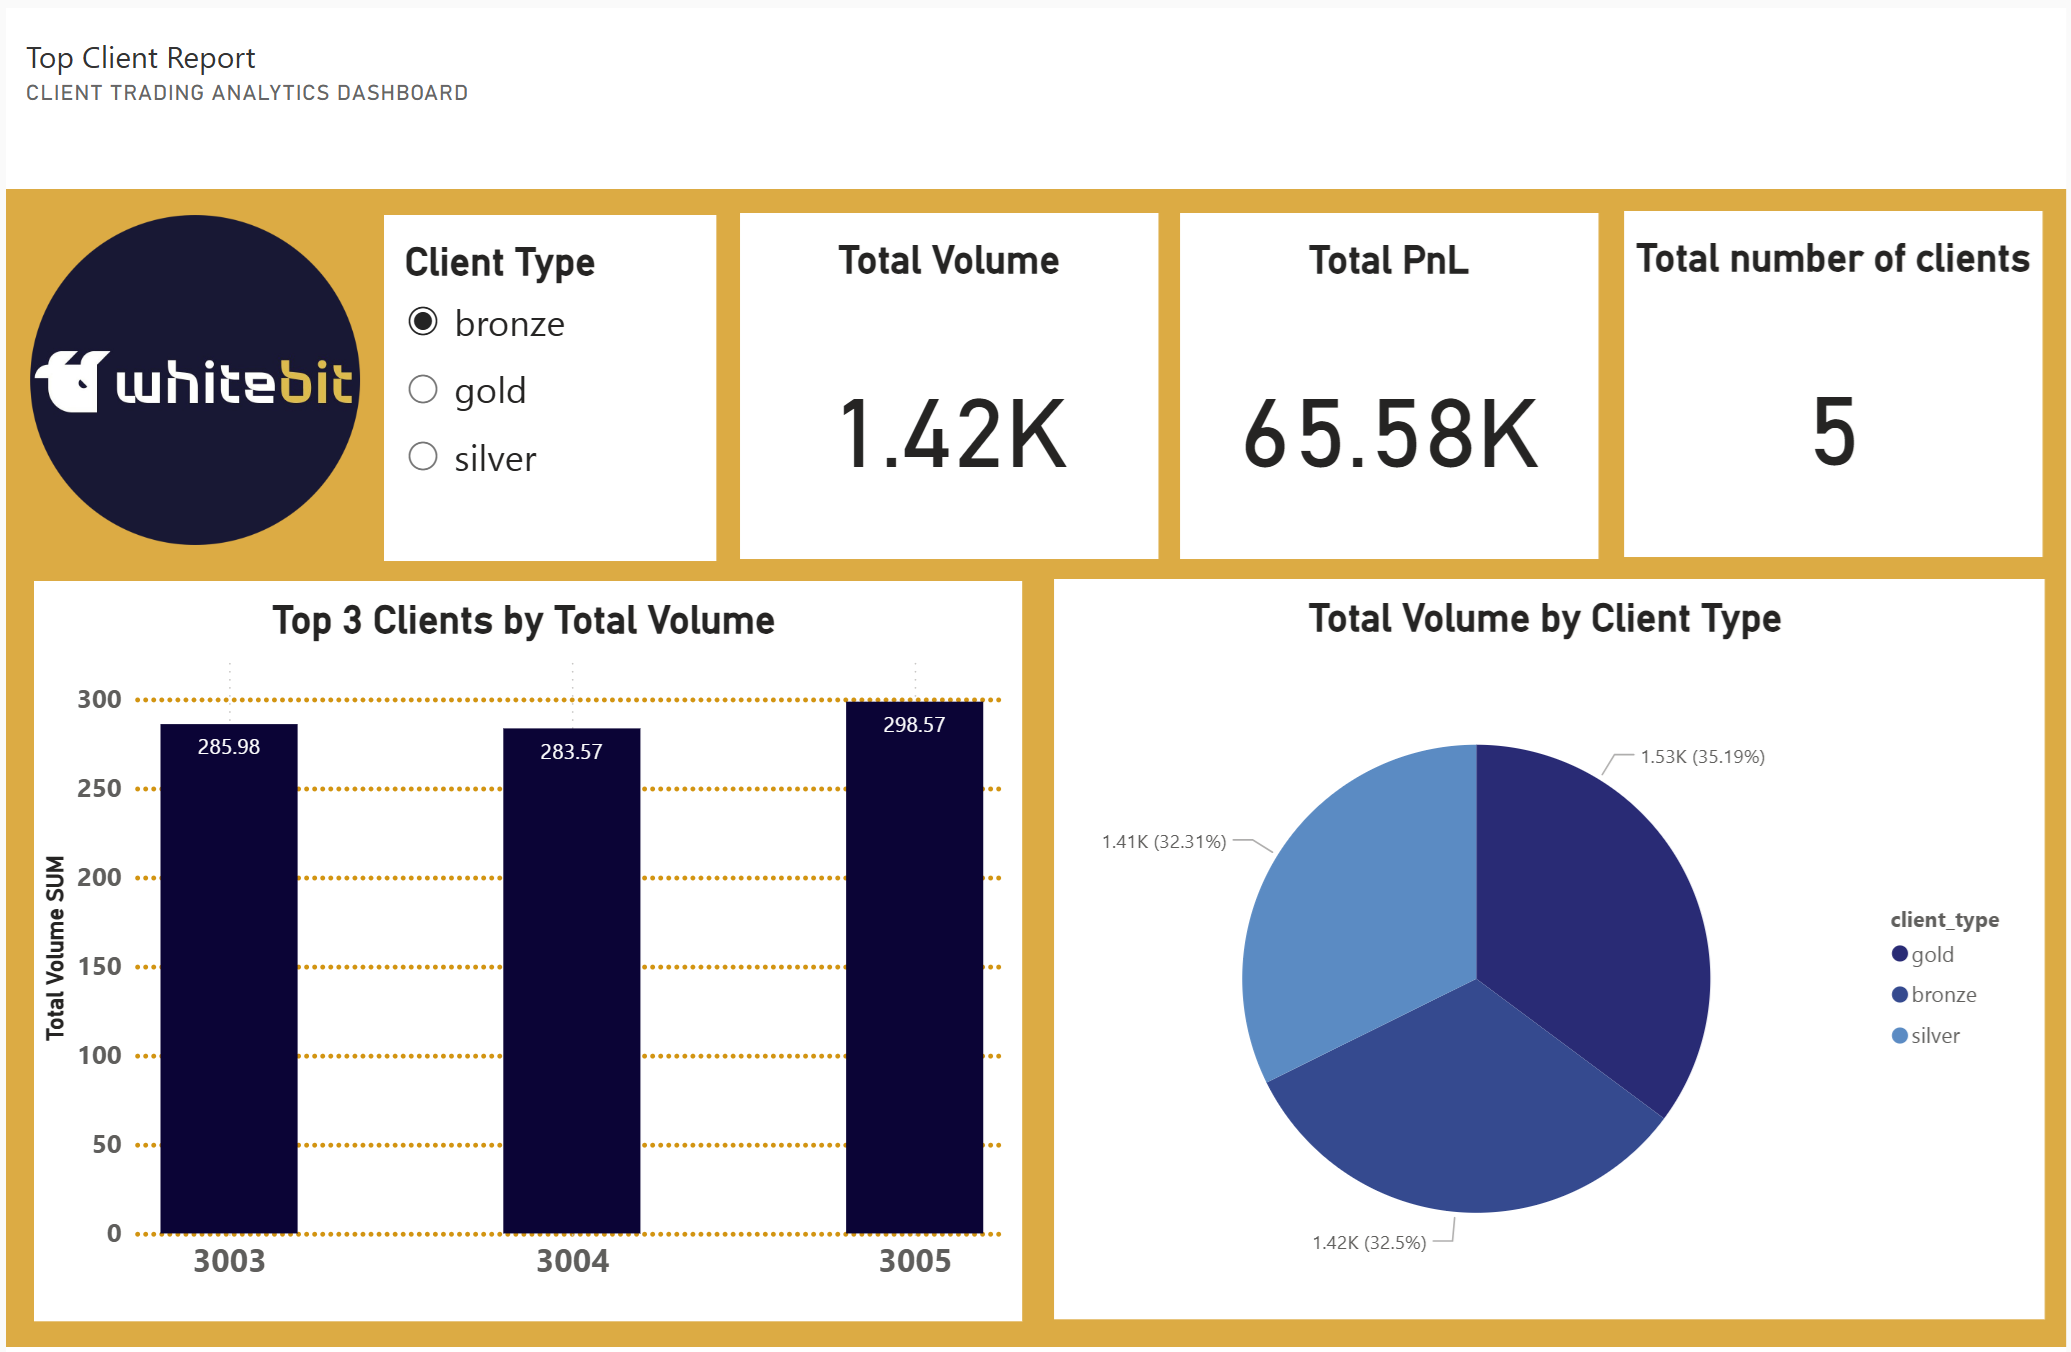

What the dashboard file says about the page in this screenshot:
{"tool":"powerbi","page":{"name":"Client Trading Analytics Dashboard","canvas":[1280,720],"ordinal":0},"visuals":[{"type":"image","box":[0,11.7,235,215],"z":0},{"type":"card","title":"Total PnL","fields":{"Values":["Sum(agg_trades.total_pnl)"]},"box":[730,15,260,215],"z":1000},{"type":"card","title":"Total number of clients","fields":{"Values":["Count(agg_trades.user_id)"]},"box":[1005,13.3,260,215],"z":2000},{"type":"slicer","fields":{"Values":["agg_trades.client_type"]},"box":[235,16.7,206.7,215],"z":3000},{"type":"clusteredColumnChart","title":"Top 3 Clients by Total Volume","fields":{"Category":["agg_trades.user_id"],"Y":["Sum(agg_trades.total_volume)"]},"box":[18,243,614,460],"z":4000},{"type":"pieChart","title":"Total Volume by Client Type","fields":{"Category":["Client Types.client_type"],"Y":["Client Types.Total Volume by Type (Ignore Slicer)"]},"box":[651.4,242.9,615.7,460],"z":5000},{"type":"card","title":"Total Volume","fields":{"Values":["Sum(agg_trades.total_volume)"]},"box":[456.7,15,260,215],"z":6000}]}

Visuals, with their boxes on the page's 1280x720 design canvas (x1, y1, x2, y2). These are canvas units, not pixel positions in the 2071x1352 screenshot, which may show the page scaled, cropped or inside an application window:
image: 0, 12, 235, 227
"Total PnL" card: 730, 15, 990, 230
"Total number of clients" card: 1005, 13, 1265, 228
slicer - agg_trades.client_type: 235, 17, 442, 232
"Top 3 Clients by Total Volume" clusteredColumnChart: 18, 243, 632, 703
"Total Volume by Client Type" pieChart: 651, 243, 1267, 703
"Total Volume" card: 457, 15, 717, 230
